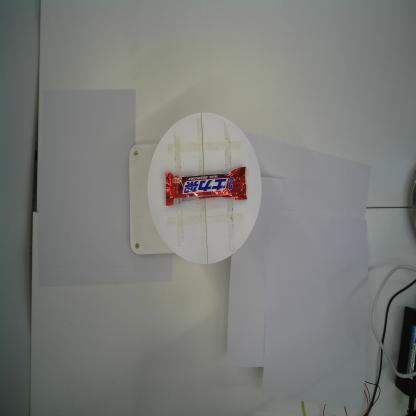Chocolate: (165, 166, 248, 207)
